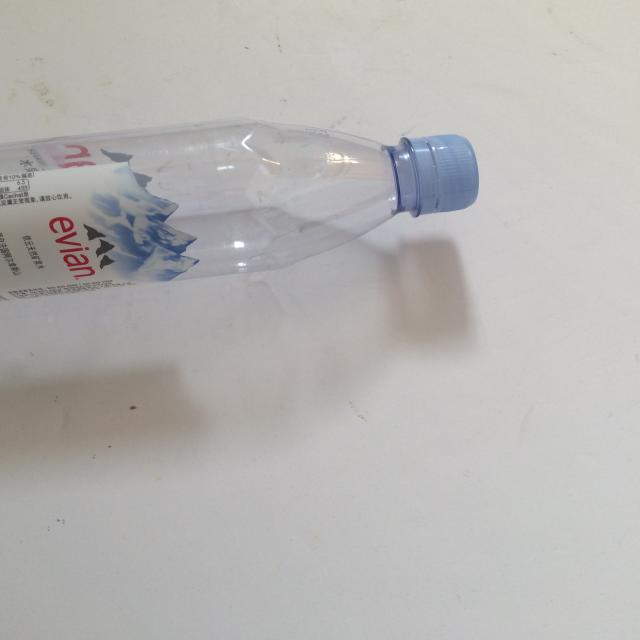plastic: (0, 116, 479, 303)
